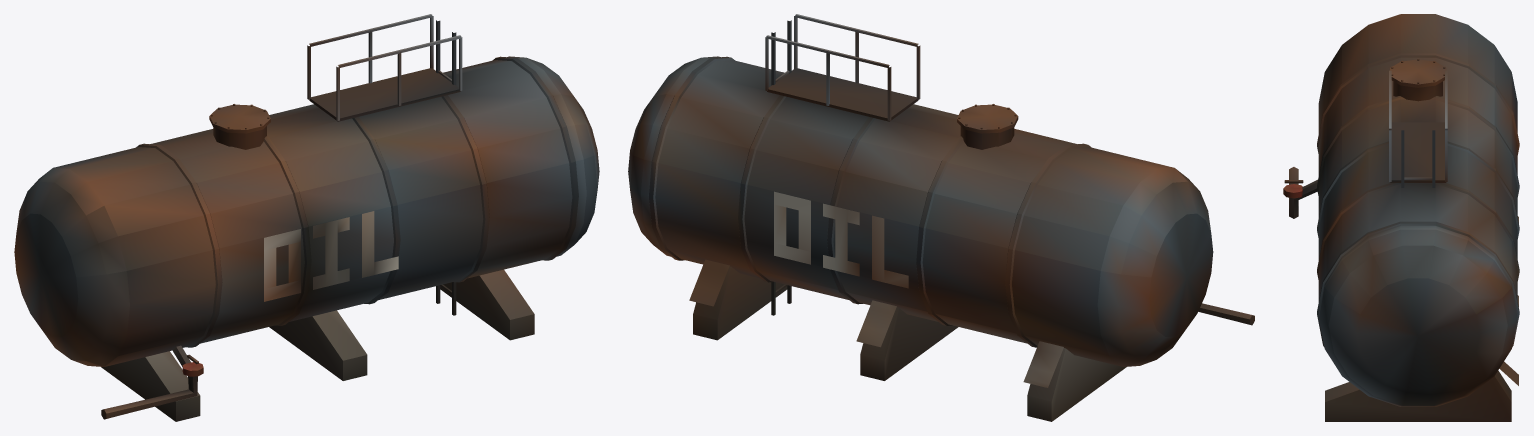
File: oil_tank.glb
3 views of the same model, side by side, from view 1: azimuth 30°, elevation 25°; view 2: azimuth 150°, elevation 25°; view 3: azimuth 270°, elevation 25° (orthographic). The views are drawn at different scales.
Parts seen in each view (by area): view 1: OilTank; view 2: OilTank; view 3: OilTank.
Part boxes in pixels (x1,y1,x2,y2): OilTank: [14, 14, 599, 421]; OilTank: [628, 14, 1254, 421]; OilTank: [1283, 14, 1519, 421].
Bounding box in the file's own units: 9.58 × 4.87 × 3.8.
